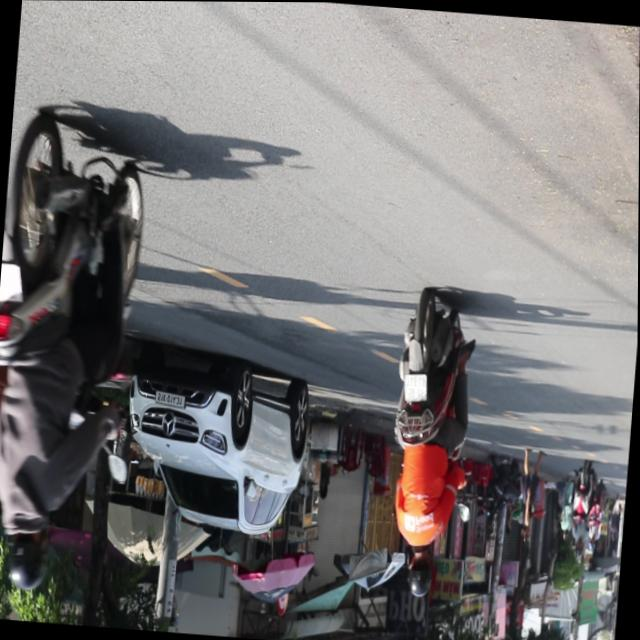helmet: (3, 524, 50, 595), (404, 545, 436, 599)
licenseplate: (0, 107, 153, 601), (378, 287, 482, 602)
nohelmet: (0, 264, 25, 304), (403, 372, 428, 402)
